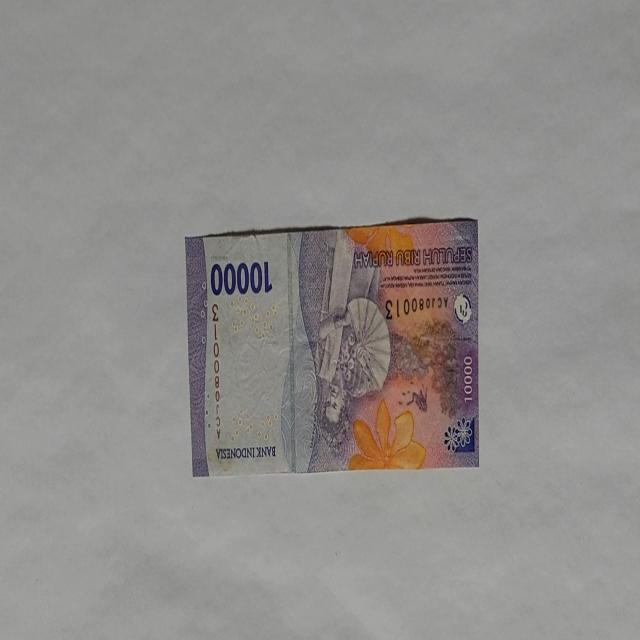sepuluh ribu rupiah: (185, 217, 480, 477), (208, 258, 274, 297)
